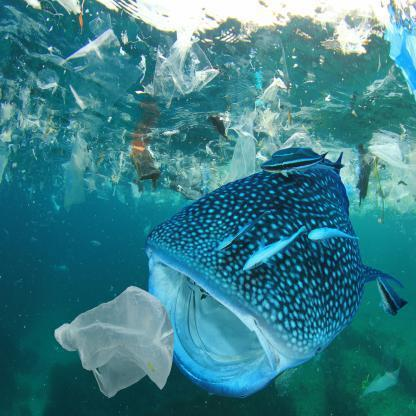Rác: (56, 284, 174, 394), (70, 30, 136, 92), (152, 36, 222, 94), (64, 132, 96, 204), (384, 16, 414, 92), (360, 359, 400, 403), (368, 138, 416, 172), (2, 99, 38, 135), (233, 124, 254, 180), (386, 177, 411, 209), (258, 80, 287, 107), (254, 107, 279, 137), (50, 192, 70, 219), (94, 16, 113, 38), (112, 181, 129, 205), (128, 178, 144, 196)
